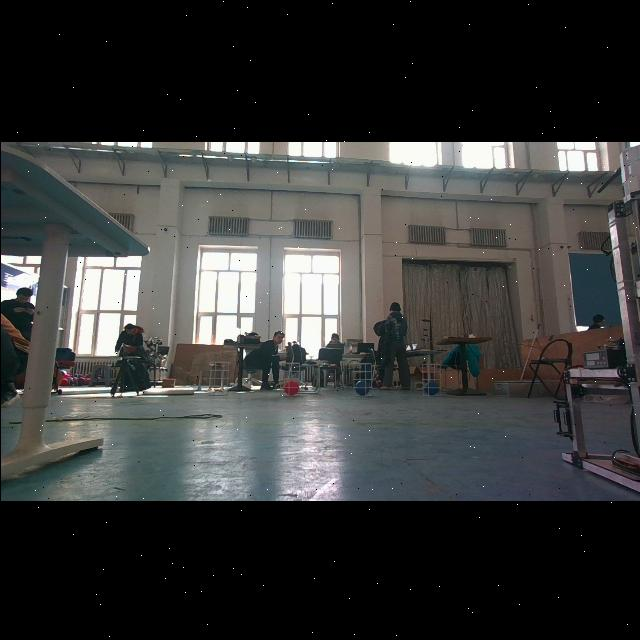B: (352, 378, 370, 394), (422, 381, 441, 394)
R: (282, 380, 298, 392)
S: (417, 358, 445, 398), (205, 358, 231, 398), (349, 359, 375, 397), (277, 359, 303, 396)
